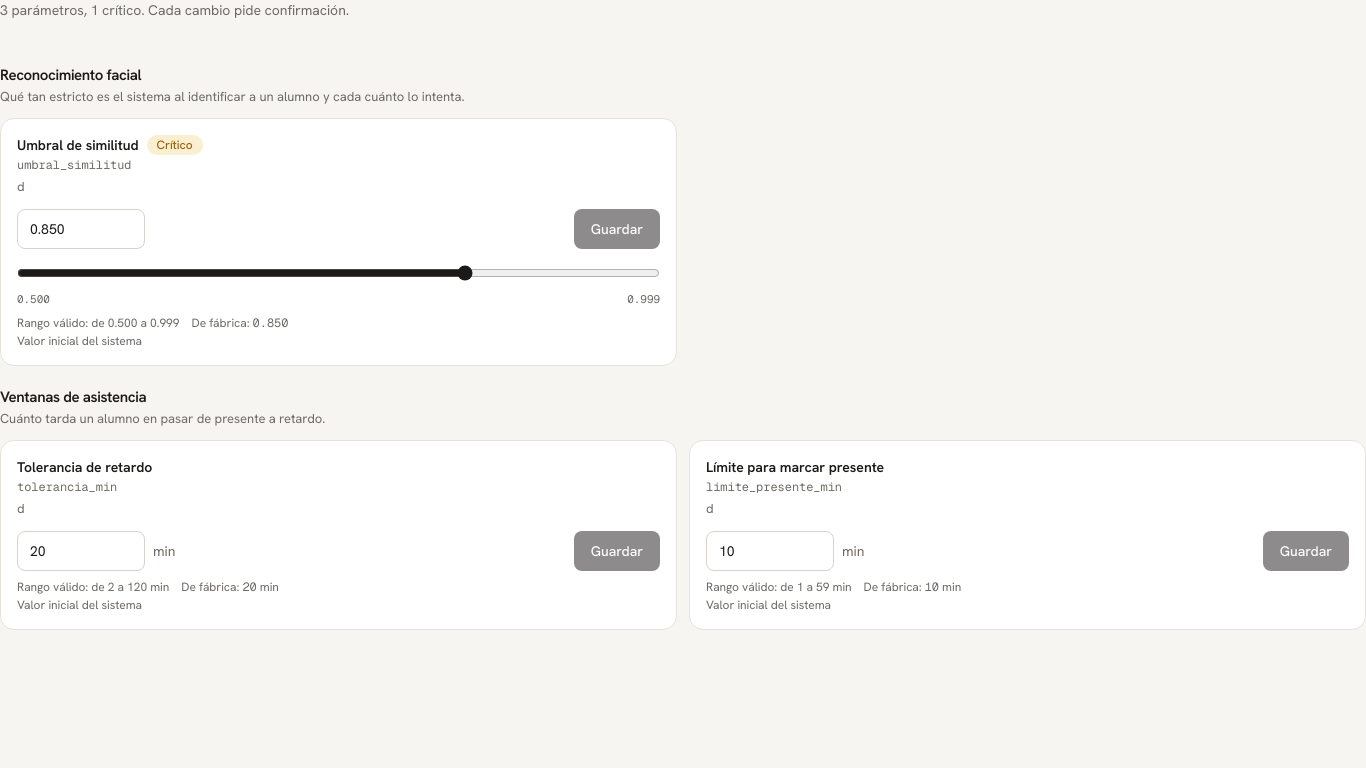
Scenario: ParametrosEditor: guía para teclear un valor válido › si el servidor rechaza el valor, el mensaje queda bajo el campo y el campo recupera el foco
Replace the text in the field labelled "Umbral de similitud" with "0.9" at [81, 228], box [17,208,145,248]
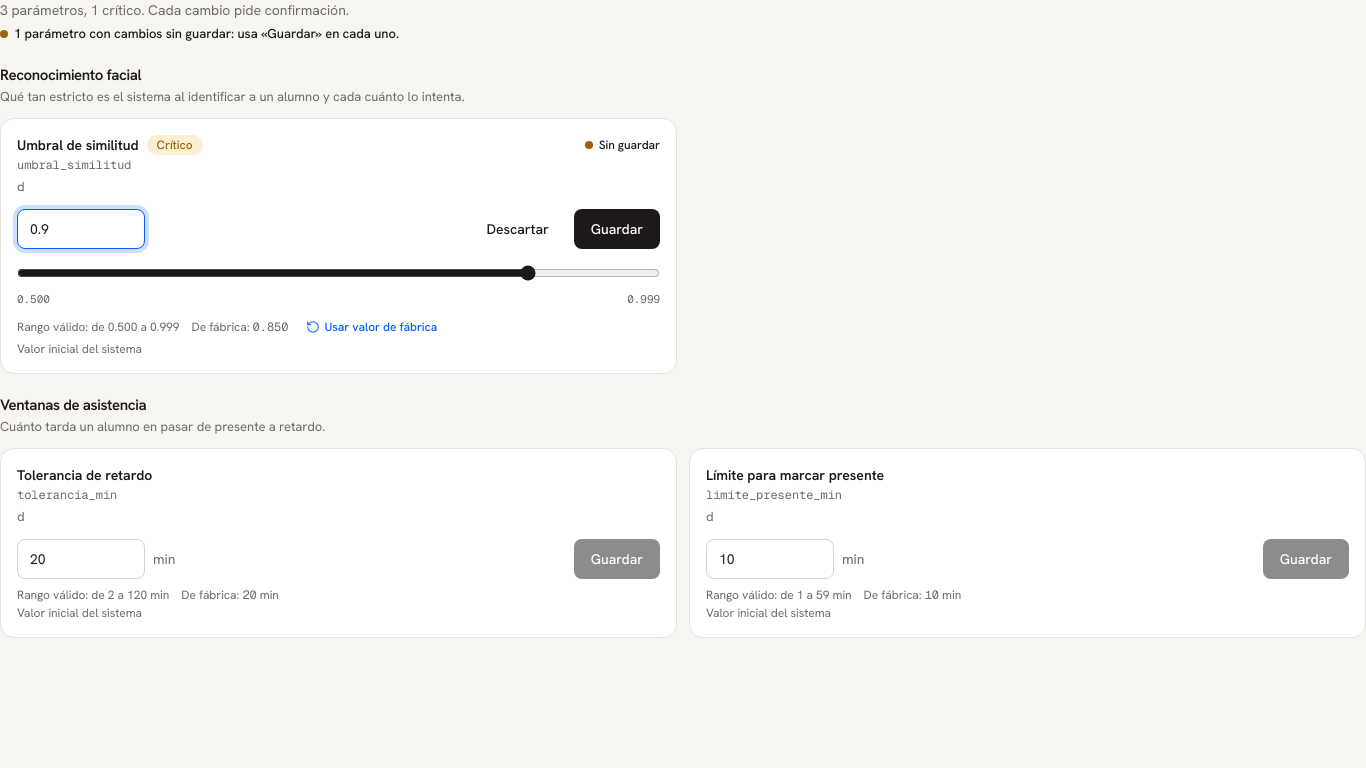
Click the 1st button "Guardar" at [617, 228], box [574,208,660,248]
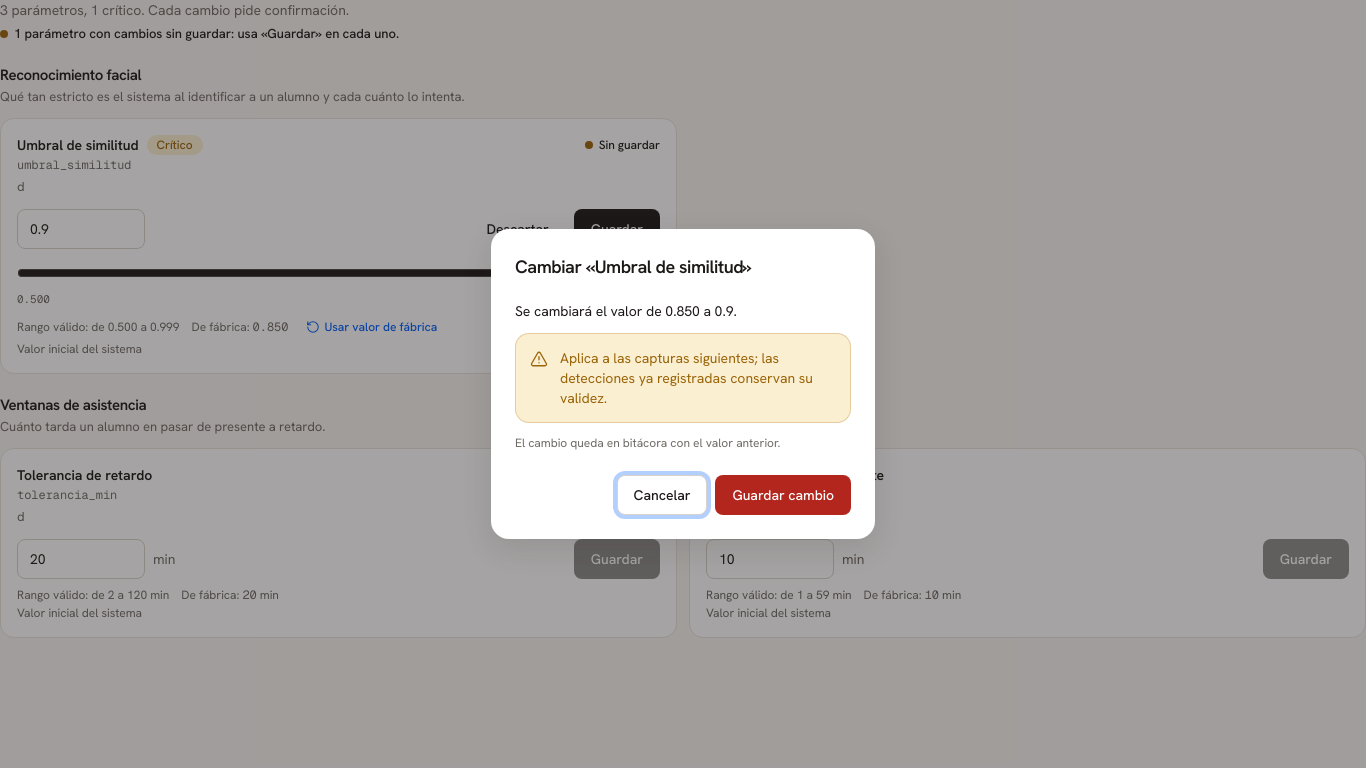
Click the button "Guardar cambio" at [783, 495], box [716,475,851,515]
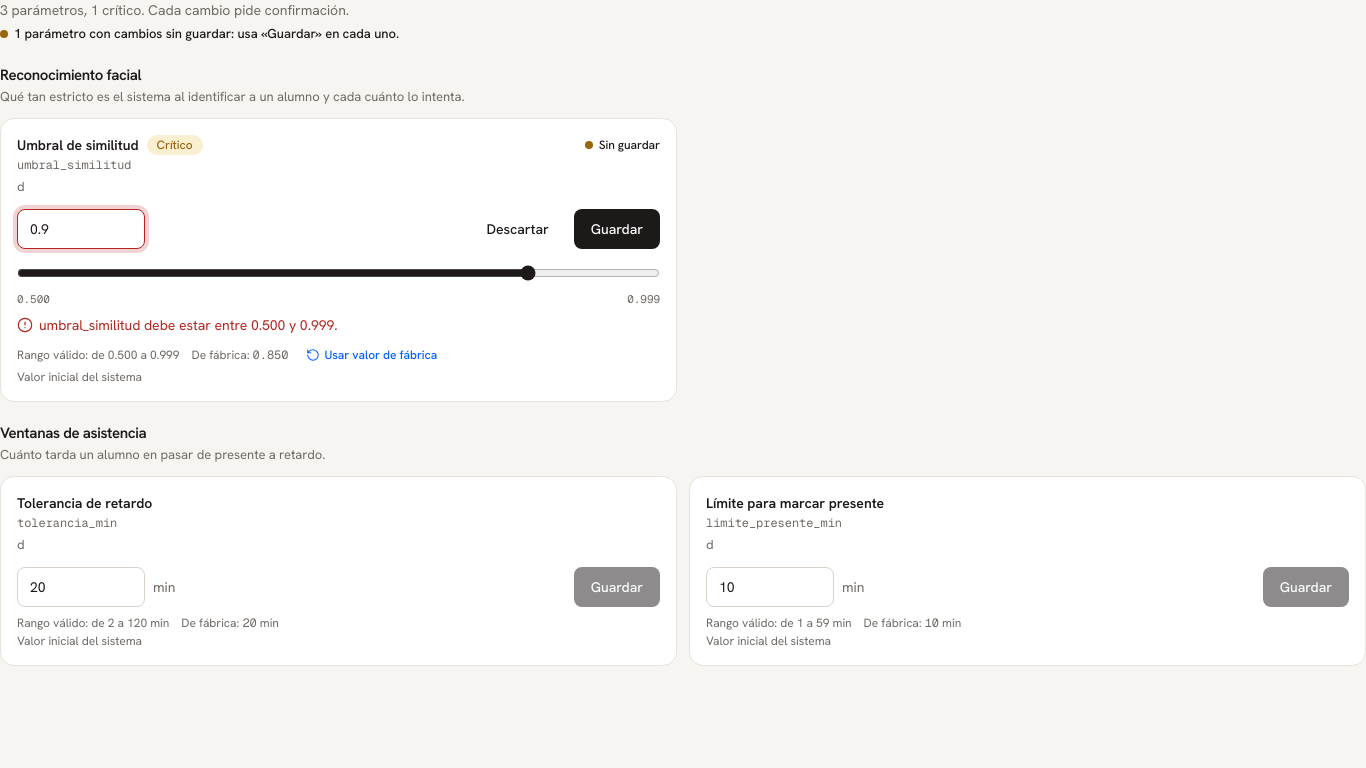
expect the text "umbral_similitud debe estar entre 0.500 y 0.999." is shown: met, box [17,316,338,334]
